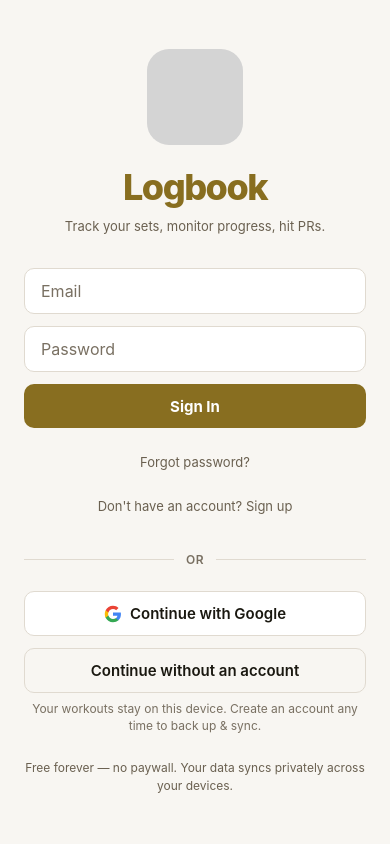
Test: AuthScreen › forgot password (#1430) › with no email typed, explains instead of sending
Click the button "Forgot password?". click: (195, 462)
box: [140,440,250,484]
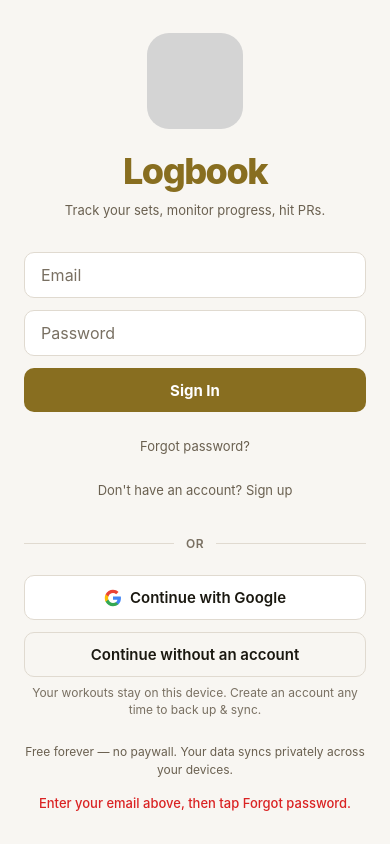
expect the message with class "authMessage" shows "Enter your email": met, box [39,795,351,811]
